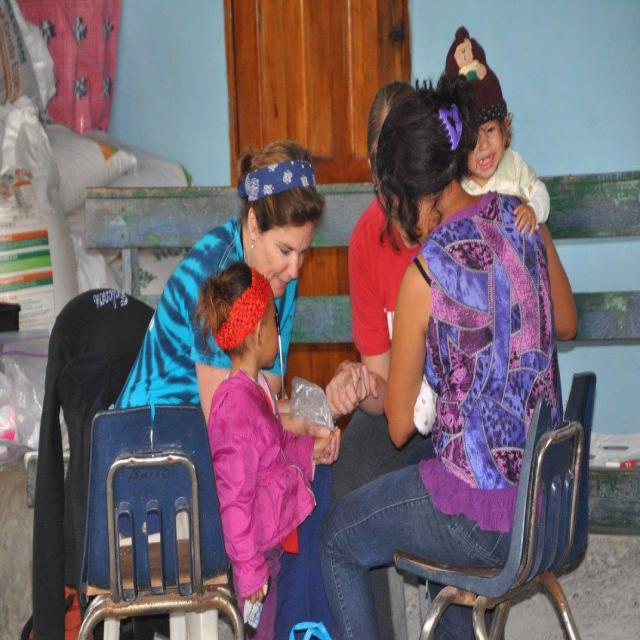body: (318, 79, 585, 639), (321, 68, 568, 639), (112, 137, 380, 640), (194, 256, 341, 639), (434, 21, 552, 241)
